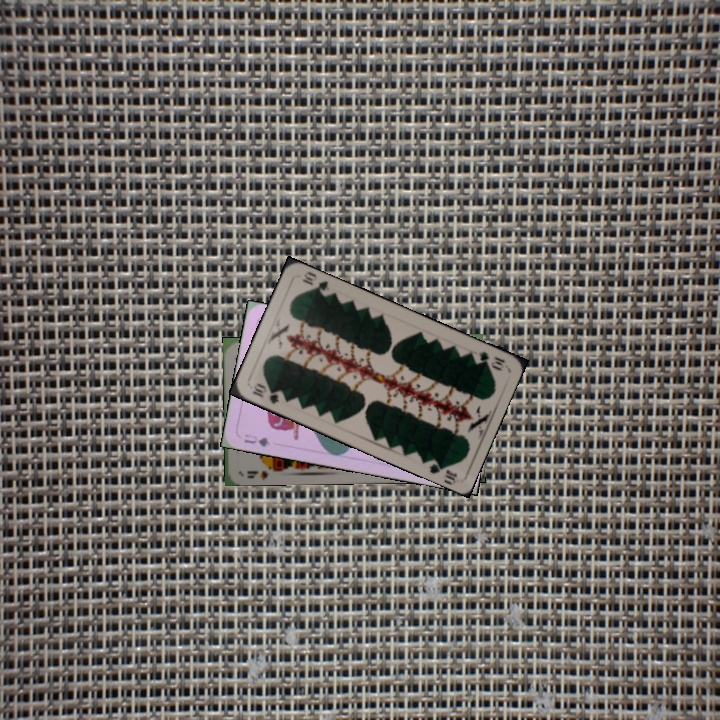G10: (468, 347, 507, 373), (248, 379, 282, 407)
GU: (240, 430, 272, 449)
S9: (243, 461, 280, 481)
